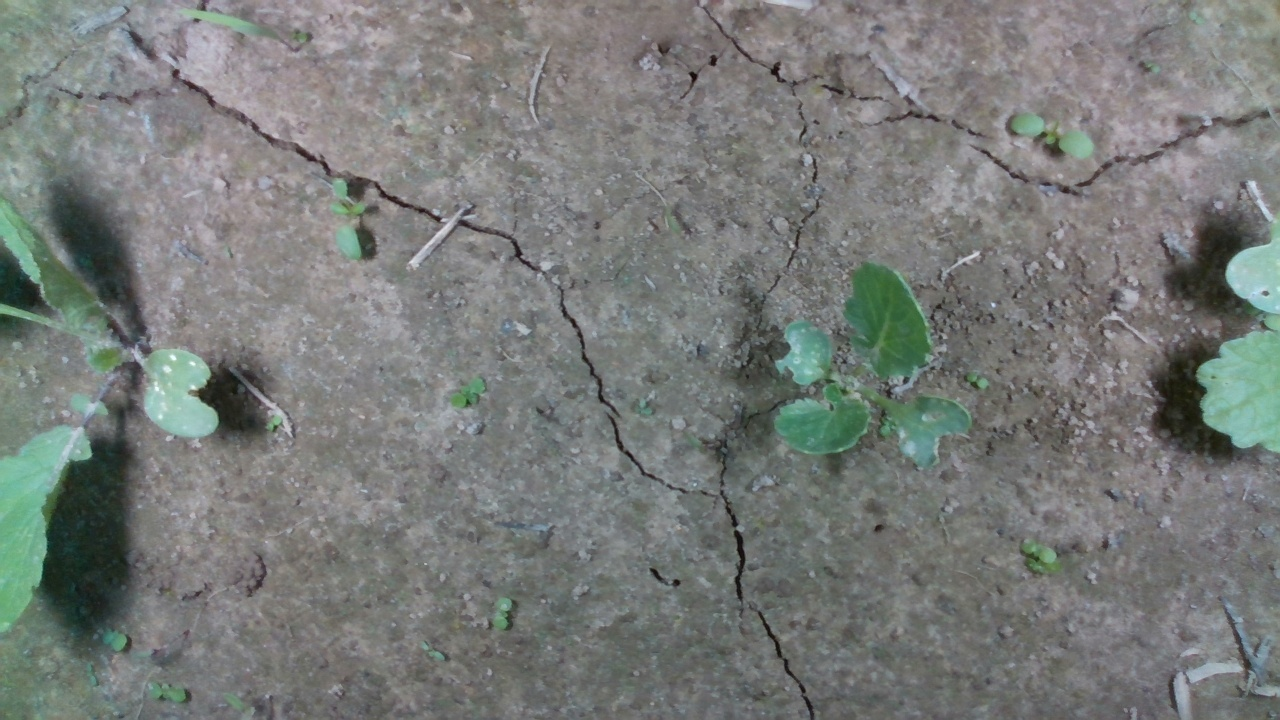weed: (1014, 105, 1095, 168), (324, 176, 374, 258), (442, 372, 495, 420), (1019, 533, 1063, 575), (99, 627, 136, 662), (489, 594, 515, 641), (960, 367, 989, 390), (635, 396, 659, 421), (419, 639, 447, 660)
